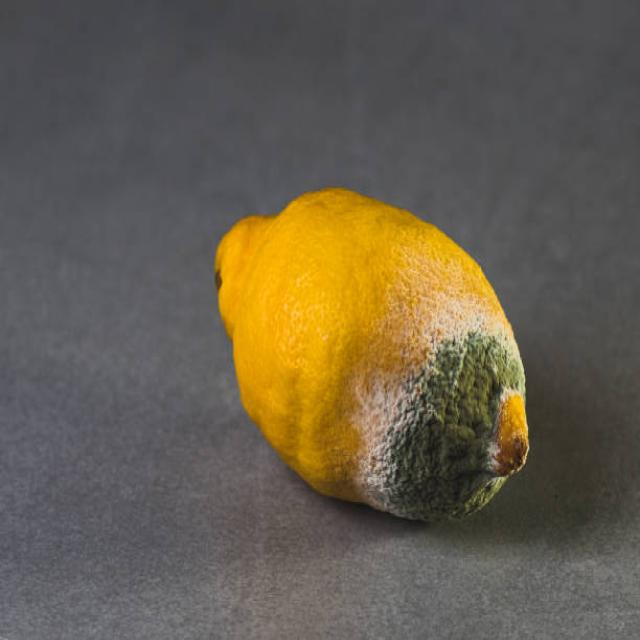Rotten: (212, 183, 530, 531)
